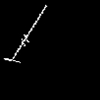treble_crochet: (4, 5, 46, 61)
